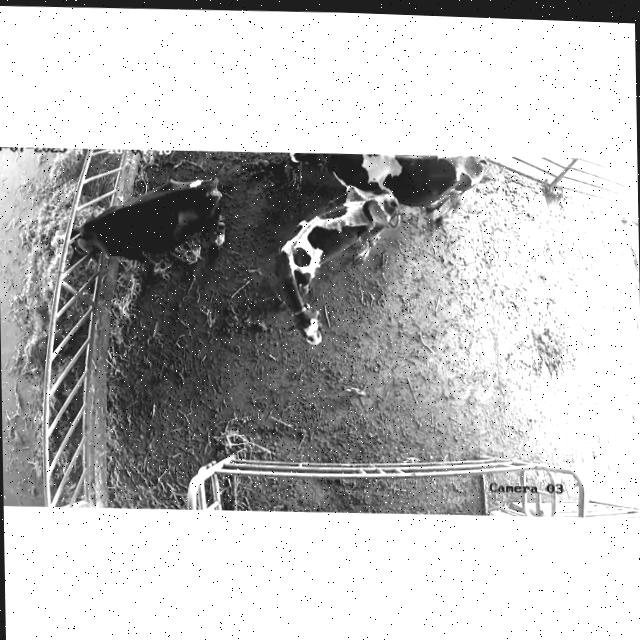stand: (267, 181, 405, 356), (282, 147, 497, 223)
